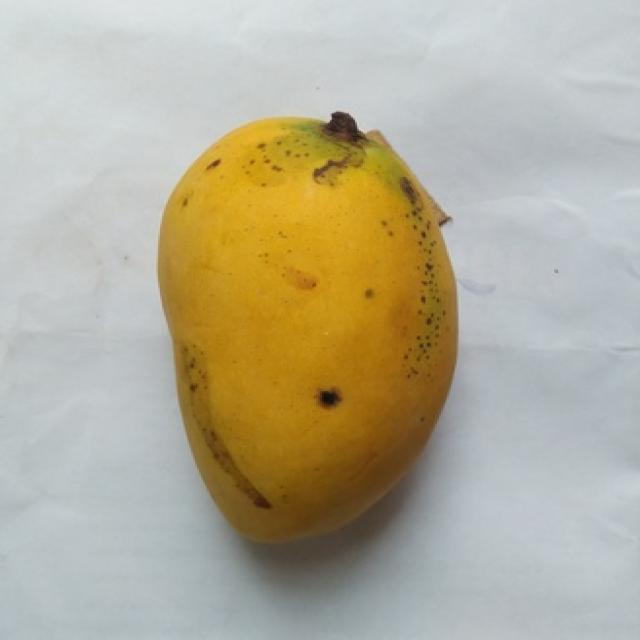Mango: (158, 117, 457, 541)
